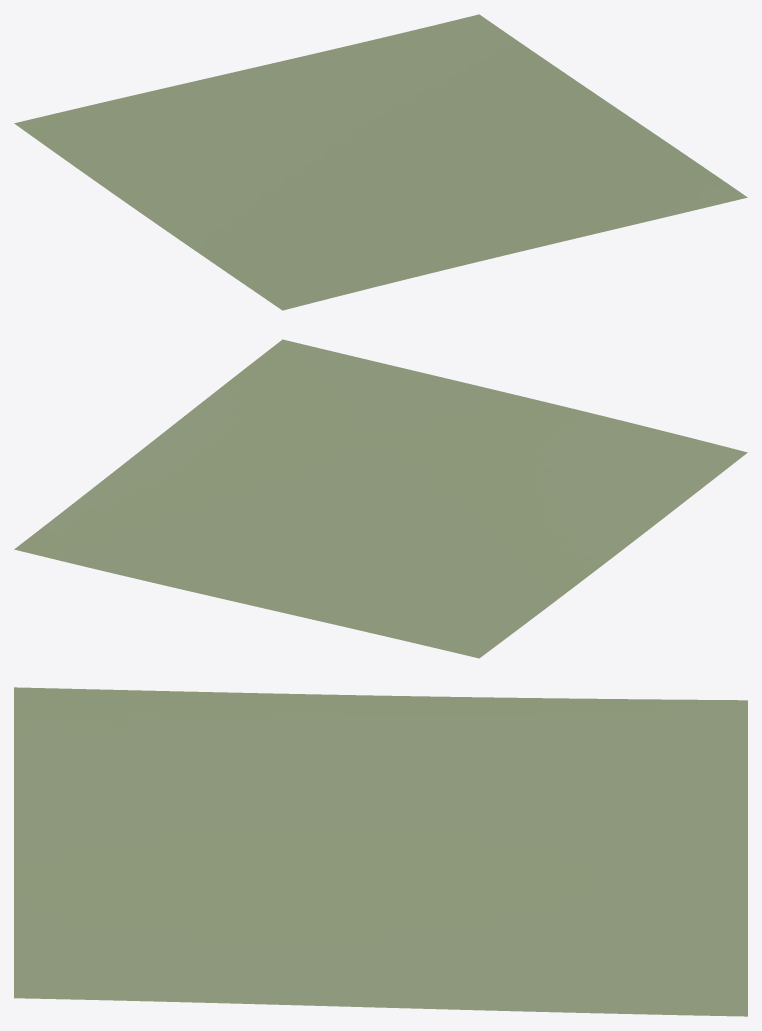
Rendered from expanse-5-13.glb.
3 views of the same model, one above another, from view 1: azimuth 30°, elevation 25°; view 2: azimuth 150°, elevation 25°; view 3: azimuth 270°, elevation 25° (orthographic). The views are drawn at different scales.
Parts seen in each view (by area): view 1: expanse-5-13; view 2: expanse-5-13; view 3: expanse-5-13.
Boxes of the visible parts, x1,y1,x2,y2 form: expanse-5-13: [14, 14, 747, 310]; expanse-5-13: [14, 339, 747, 658]; expanse-5-13: [14, 687, 747, 1016].
Size of the model in its own units: 256 by 7.9 by 256.
